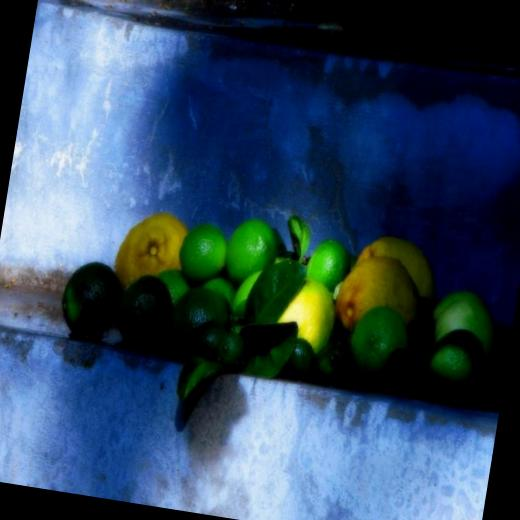Grape: (334, 255, 418, 338), (116, 208, 189, 294), (52, 254, 120, 345), (355, 233, 437, 292), (220, 212, 286, 284), (284, 284, 338, 359), (120, 270, 177, 340), (179, 216, 232, 288), (351, 304, 406, 364), (440, 294, 491, 348), (310, 235, 352, 296), (224, 264, 262, 330), (178, 284, 222, 330), (155, 269, 190, 306), (436, 345, 478, 375), (204, 274, 241, 308)
